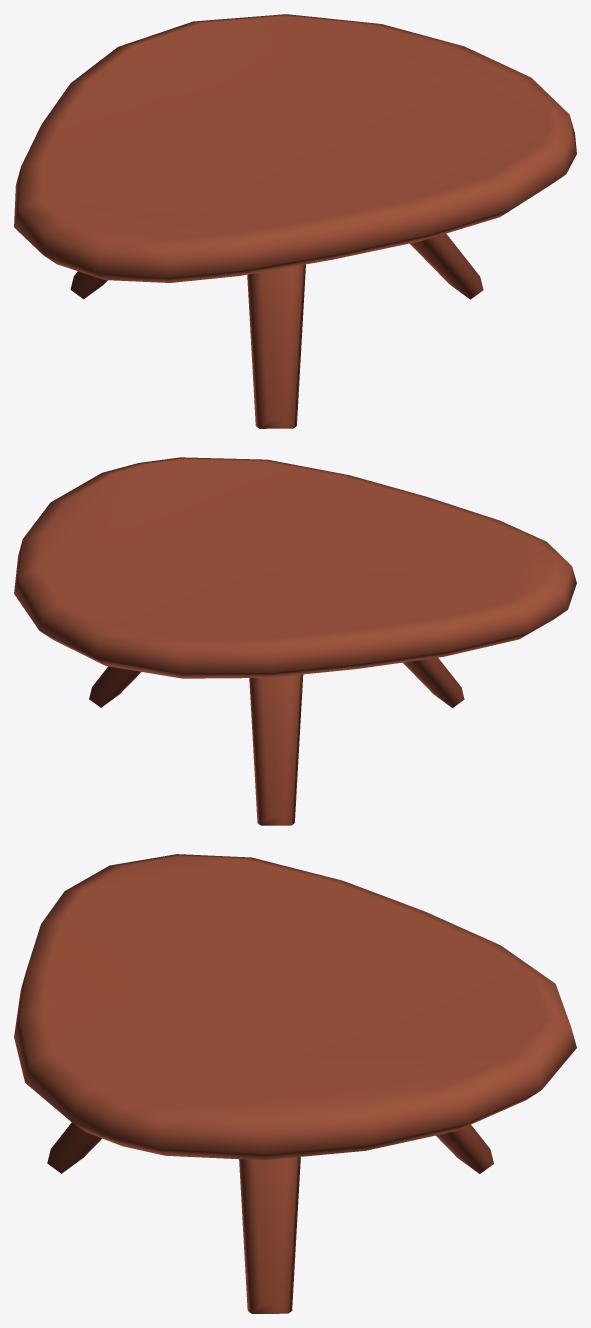
File: Furniture_Table_05.fbx
3 renders of one model, top to bottom at view 1: azimuth 30°, elevation 25°; view 2: azimuth 150°, elevation 25°; view 3: azimuth 270°, elevation 25°, orthographic. The views are drawn at different scales.
Parts seen in each view (by area): view 1: Furniture_Table_05; view 2: Furniture_Table_05; view 3: Furniture_Table_05.
Boxes of the visible parts, x1,y1,x2,y2 form: Furniture_Table_05: [14, 14, 576, 428]; Furniture_Table_05: [14, 457, 576, 825]; Furniture_Table_05: [14, 854, 576, 1313].
Size of the model in its own units: 249 by 92.33 by 211.
